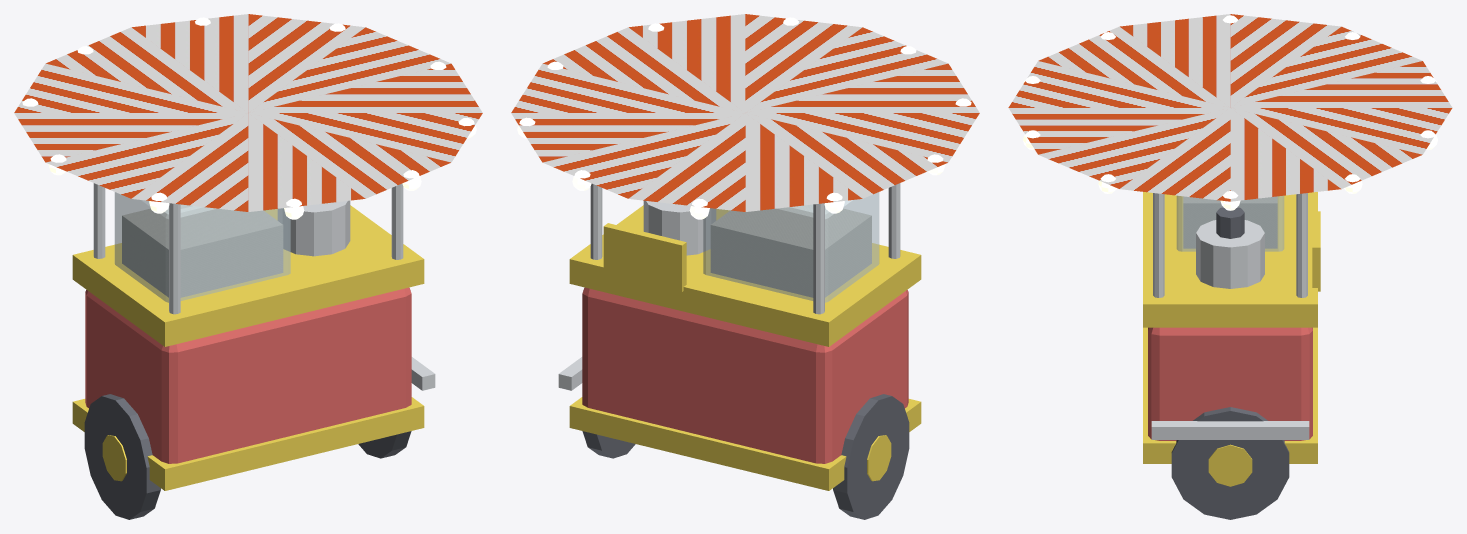
Rendered from theme-park-rides-and-coasters-theme-park-rides-and-coa-dd7bcc7d__28678.glb.
3 renders of one model, left to right at view 1: azimuth 30°, elevation 25°; view 2: azimuth 150°, elevation 25°; view 3: azimuth 270°, elevation 25°, orthographic. The views are drawn at different scales.
Parts seen in each view (by area): view 1: theme-park-rides-and-coasters-popcorn-cart; view 2: theme-park-rides-and-coasters-popcorn-cart; view 3: theme-park-rides-and-coasters-popcorn-cart.
Boxes of the visible parts, x1,y1,x2,y2 form: theme-park-rides-and-coasters-popcorn-cart: (14, 14, 482, 519); theme-park-rides-and-coasters-popcorn-cart: (511, 14, 979, 519); theme-park-rides-and-coasters-popcorn-cart: (1008, 14, 1452, 519).
Bounding box in the file's own units: 3.1 × 3.3 × 3.1.
Materials: 8 (2 with a texture image).
